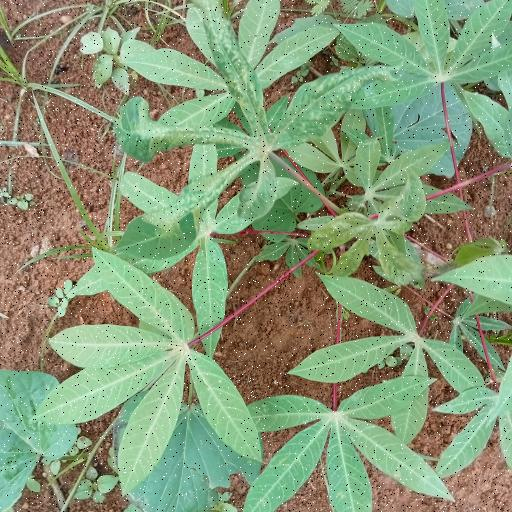Cassava_Mosaic: (116, 5, 396, 265), (44, 249, 261, 482), (248, 377, 433, 512), (312, 176, 425, 296)
